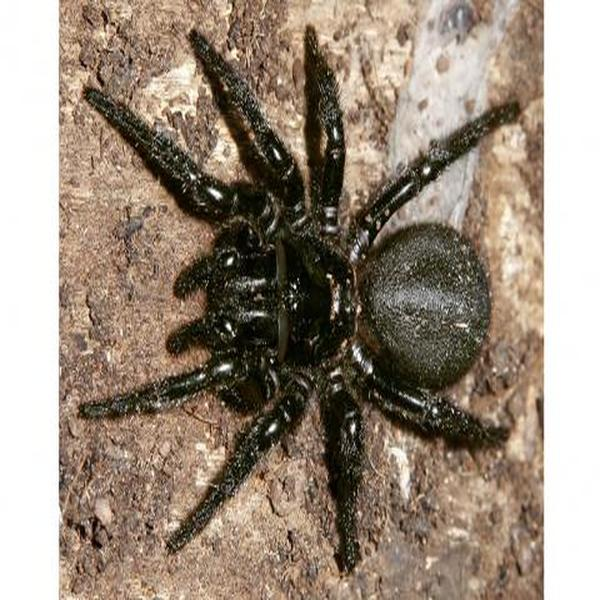Sydney_Funnel_Web_Spider: (80, 29, 520, 568)
